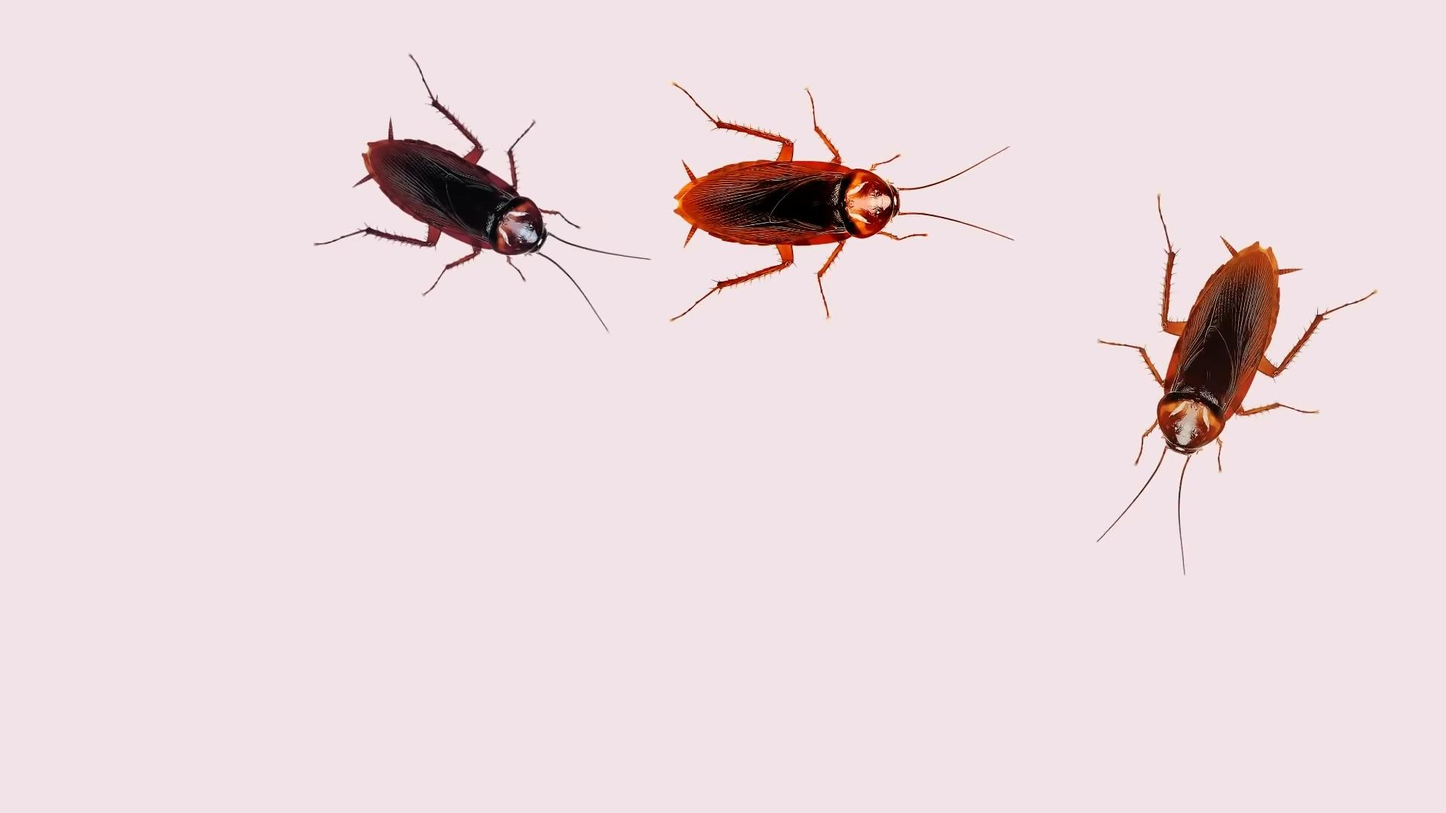cockroach: (320, 33, 640, 345), (664, 54, 1008, 337), (1100, 176, 1337, 571)
